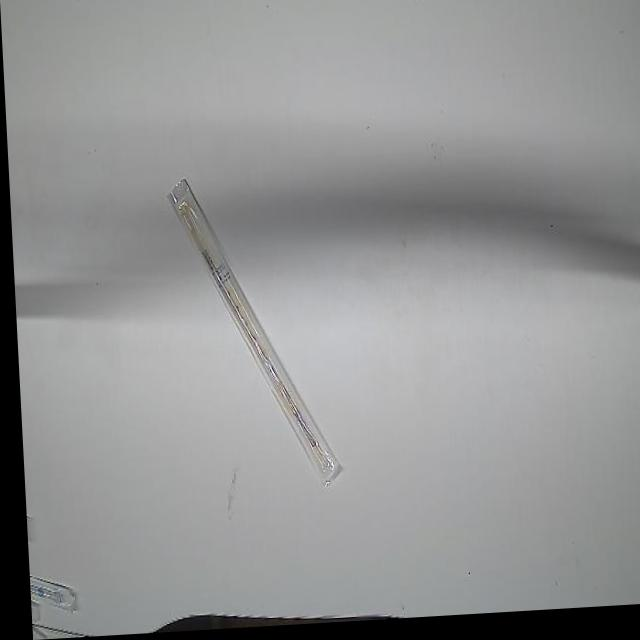Serelogical Pipet 1 mL - Sealed: (160, 165, 346, 503)
